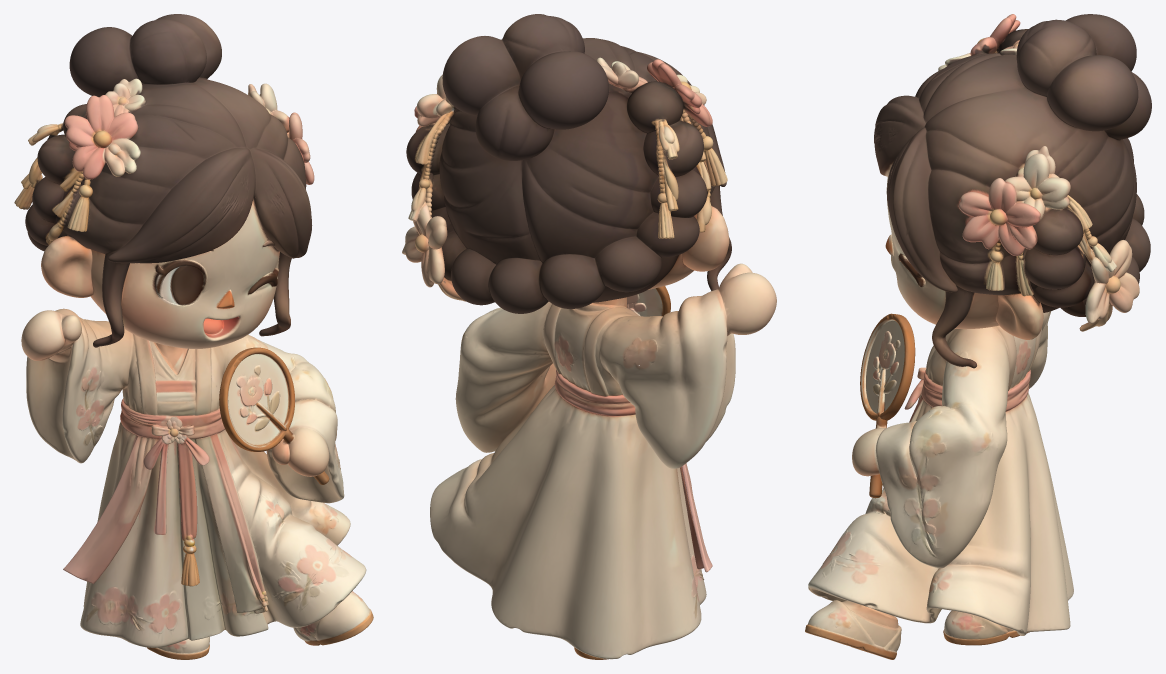
The model's file is hanfu.glb.
3 renders of one model, left to right at view 1: azimuth 30°, elevation 25°; view 2: azimuth 150°, elevation 25°; view 3: azimuth 270°, elevation 25°, orthographic. The views are drawn at different scales.
Parts seen in each view (by area): view 1: tripo_node_aacb33d5-8dd5-497d-9fca-690f681bbdb5; view 2: tripo_node_aacb33d5-8dd5-497d-9fca-690f681bbdb5; view 3: tripo_node_aacb33d5-8dd5-497d-9fca-690f681bbdb5.
Boxes of the visible parts, left/top/right/bottom form: tripo_node_aacb33d5-8dd5-497d-9fca-690f681bbdb5: left=14, top=14, right=373, bottom=659; tripo_node_aacb33d5-8dd5-497d-9fca-690f681bbdb5: left=402, top=14, right=776, bottom=659; tripo_node_aacb33d5-8dd5-497d-9fca-690f681bbdb5: left=805, top=14, right=1151, bottom=659.
Bounding box in the file's own units: 0.5406 × 0.9791 × 0.4947.
1 material, 1 textured.
